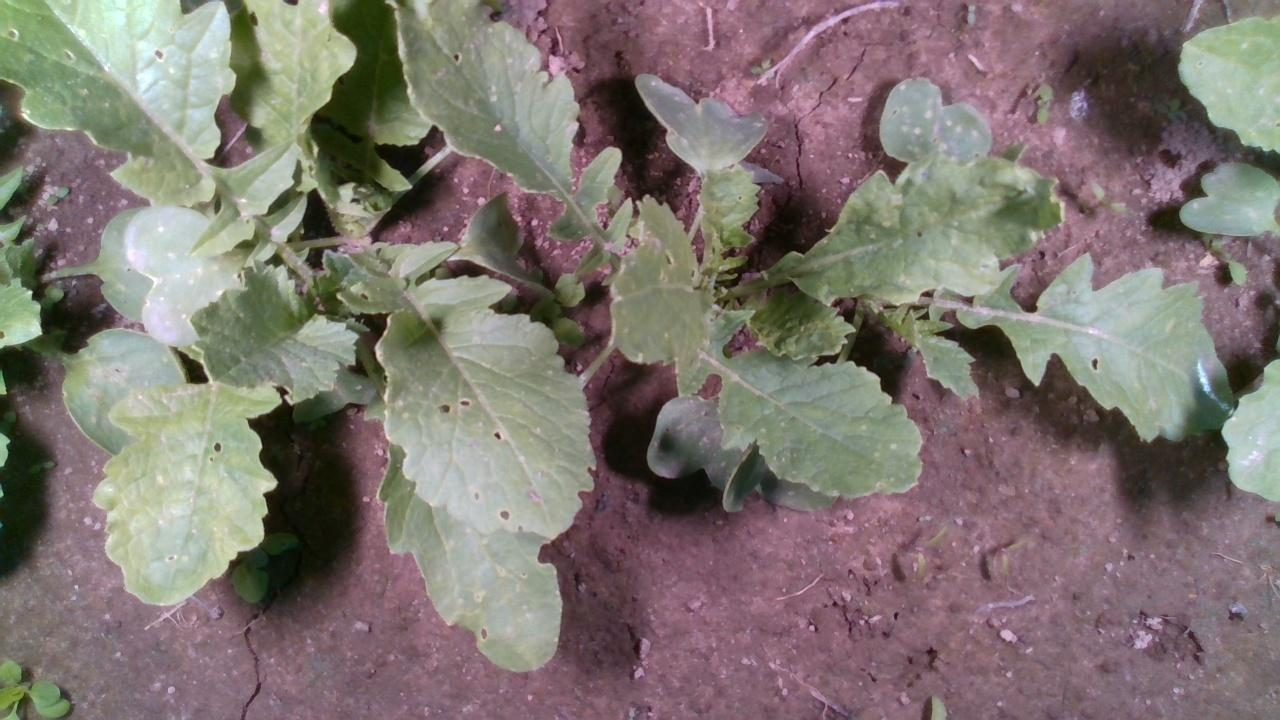weed: (1086, 175, 1140, 216), (911, 520, 947, 580), (993, 534, 1034, 579)
